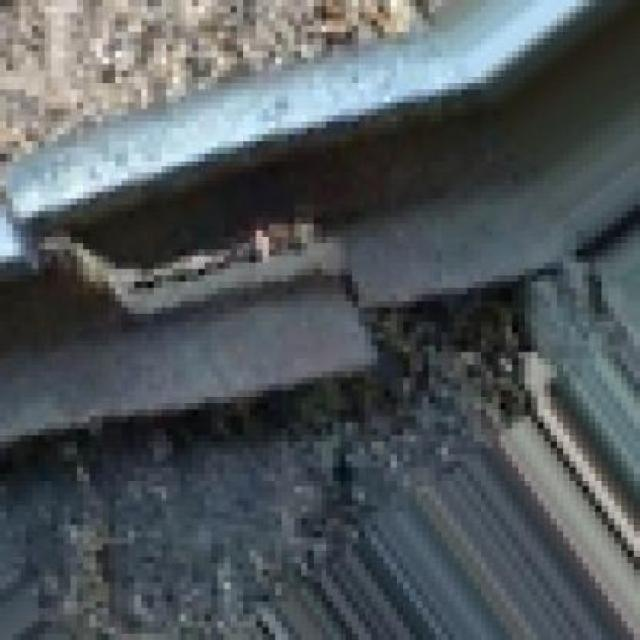defective: (0, 80, 557, 451)
